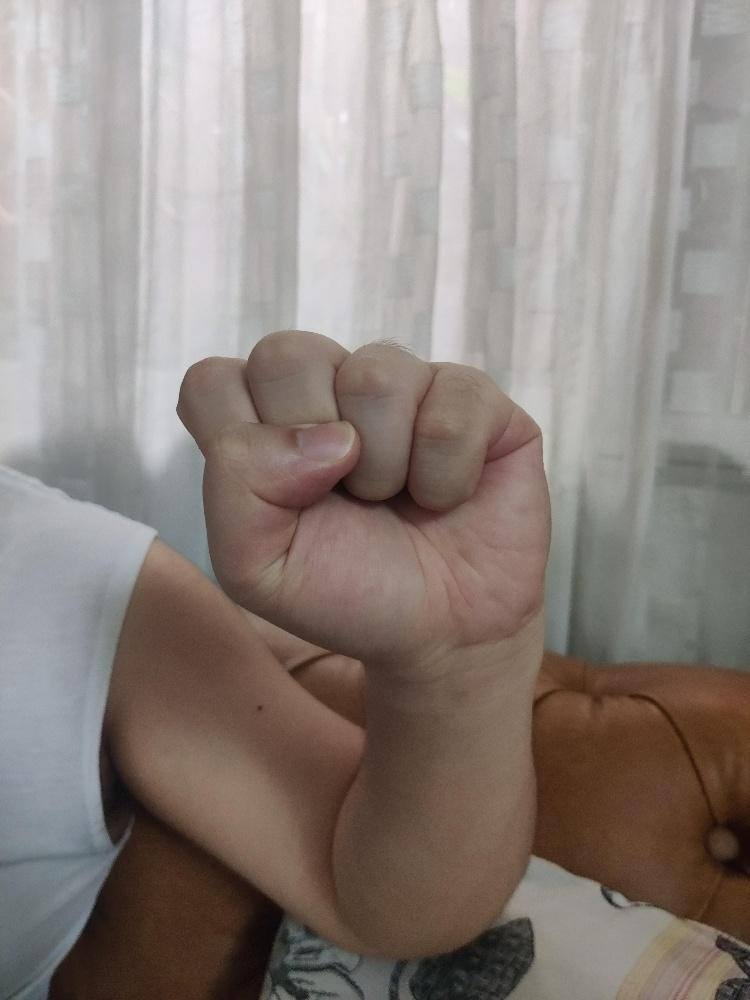s: (173, 325, 553, 663)
